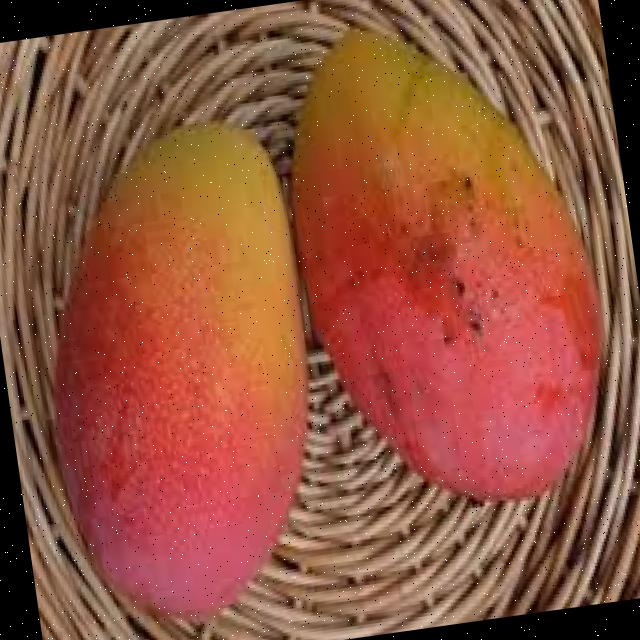mango: (288, 26, 601, 500)
